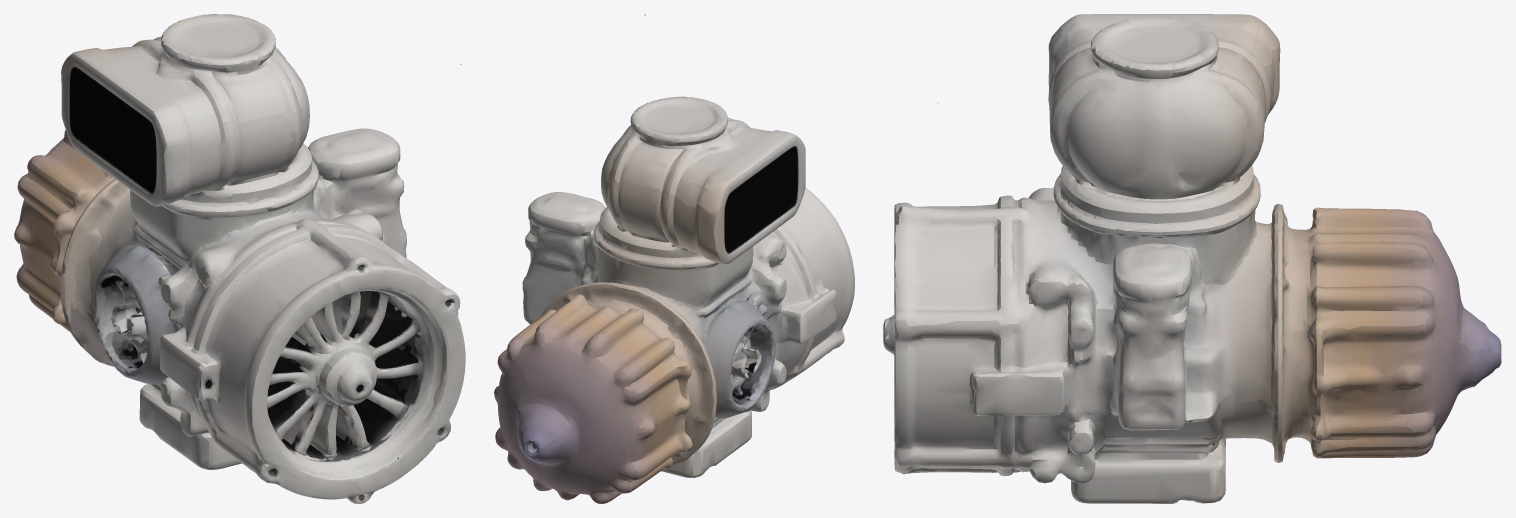
Rendered from turbocharger.glb.
The picture shows the model from 3 angles, left to right: view 1: azimuth 30°, elevation 25°; view 2: azimuth 150°, elevation 25°; view 3: azimuth 270°, elevation 25°; orthographic projection. The views are drawn at different scales.
Parts seen in each view (by area): view 1: Turbo (Hunyuan3D 2.1); view 2: Turbo (Hunyuan3D 2.1); view 3: Turbo (Hunyuan3D 2.1).
Part boxes in pixels (x1,y1,x2,y2): Turbo (Hunyuan3D 2.1): (14, 14, 465, 503); Turbo (Hunyuan3D 2.1): (494, 14, 854, 503); Turbo (Hunyuan3D 2.1): (883, 14, 1501, 503).
Bounding box in the file's own units: 0.2258 × 0.3162 × 0.4.
Materials: 1 (1 with a texture image).
